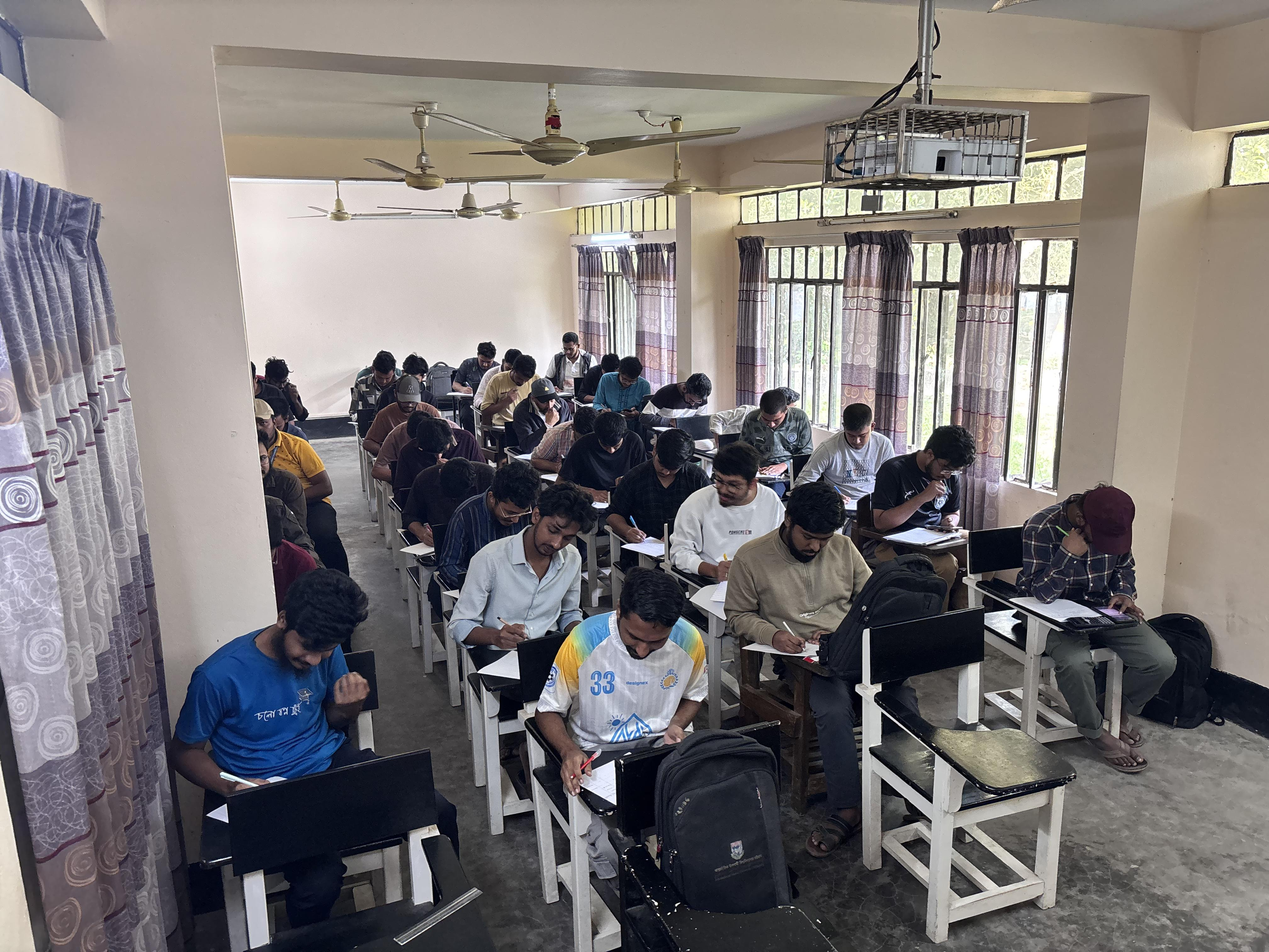copying: (683, 447, 766, 574)
no_cheating: (177, 568, 388, 832), (558, 571, 709, 831), (483, 489, 616, 667), (747, 482, 865, 663), (616, 427, 692, 549), (465, 460, 542, 558), (826, 401, 887, 491), (571, 412, 629, 500), (749, 390, 802, 475), (654, 372, 714, 435), (513, 380, 566, 450), (599, 356, 654, 413), (498, 353, 537, 424), (252, 398, 302, 446), (459, 340, 498, 398), (264, 349, 308, 395), (385, 371, 421, 425), (354, 351, 391, 403), (557, 332, 591, 376), (257, 427, 276, 484)
using_phone: (1014, 479, 1154, 676), (893, 421, 982, 566)
